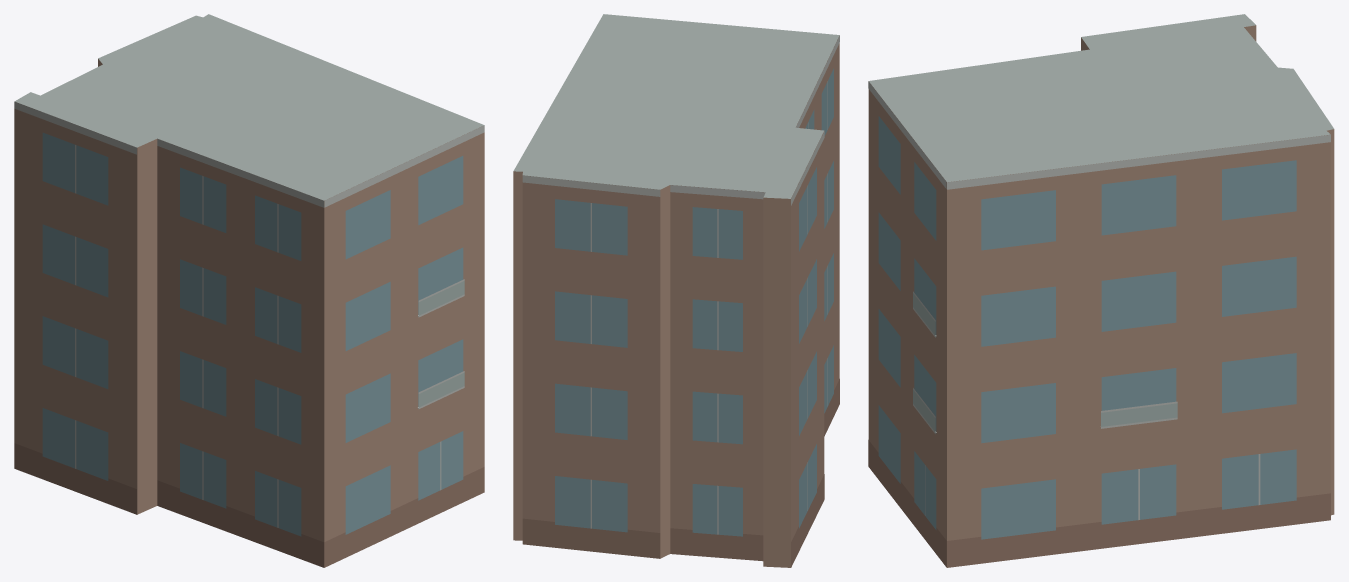
Rendered from survey-upis-32534021.glb.
3 views of the same model, side by side, from view 1: azimuth 30°, elevation 25°; view 2: azimuth 150°, elevation 25°; view 3: azimuth 270°, elevation 25° (orthographic). The views are drawn at different scales.
Parts seen in each view (by area): view 1: survey-upis-32534021.tmp; view 2: survey-upis-32534021.tmp; view 3: survey-upis-32534021.tmp.
Boxes of the visible parts, box(x1,y1,x2,y2) form: survey-upis-32534021.tmp: box(14, 14, 484, 567); survey-upis-32534021.tmp: box(513, 14, 839, 567); survey-upis-32534021.tmp: box(868, 14, 1334, 567).
Size of the model in its own units: 11.71 by 12.5 by 13.7.
